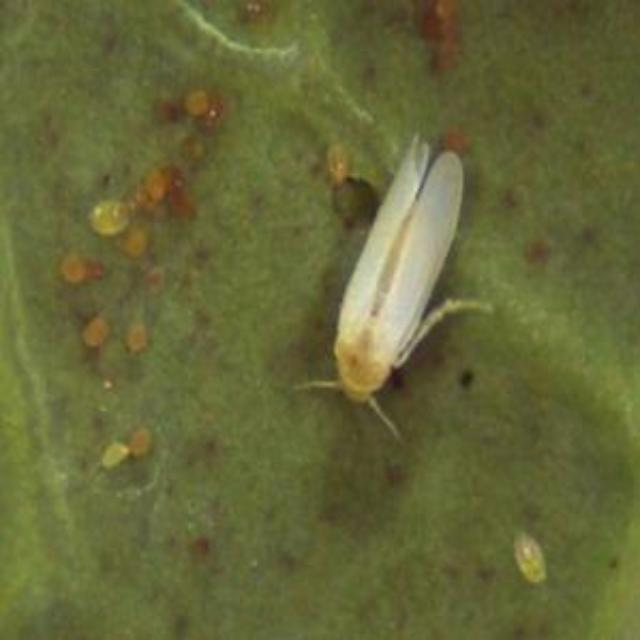Silverleaf whitefly: (282, 145, 506, 411)
